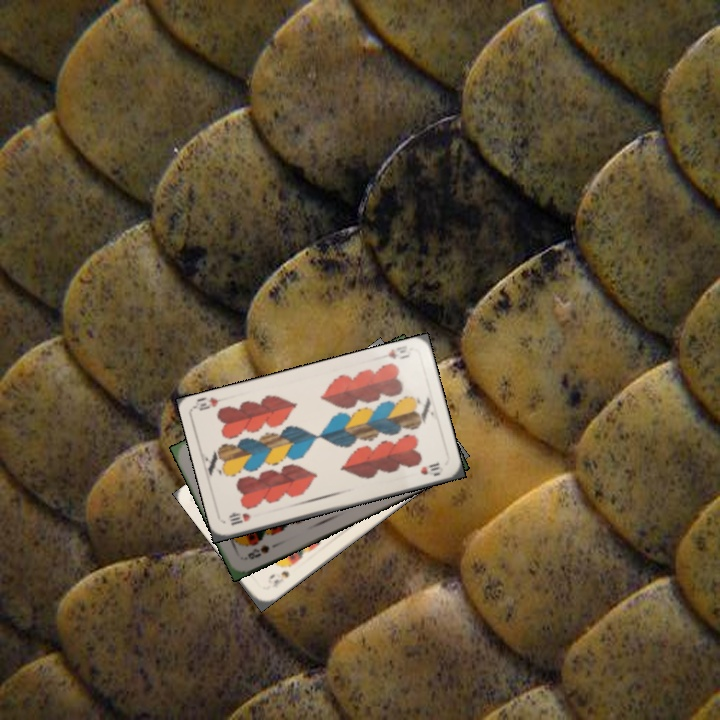H10: (384, 342, 412, 362), (225, 509, 253, 528)
S10: (268, 567, 292, 591)
S8: (240, 540, 272, 563)
